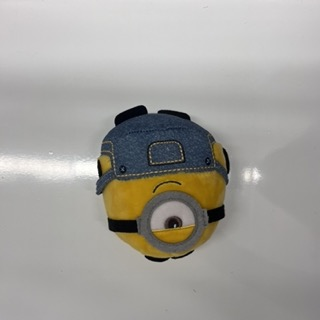minion: (97, 106, 228, 265)
